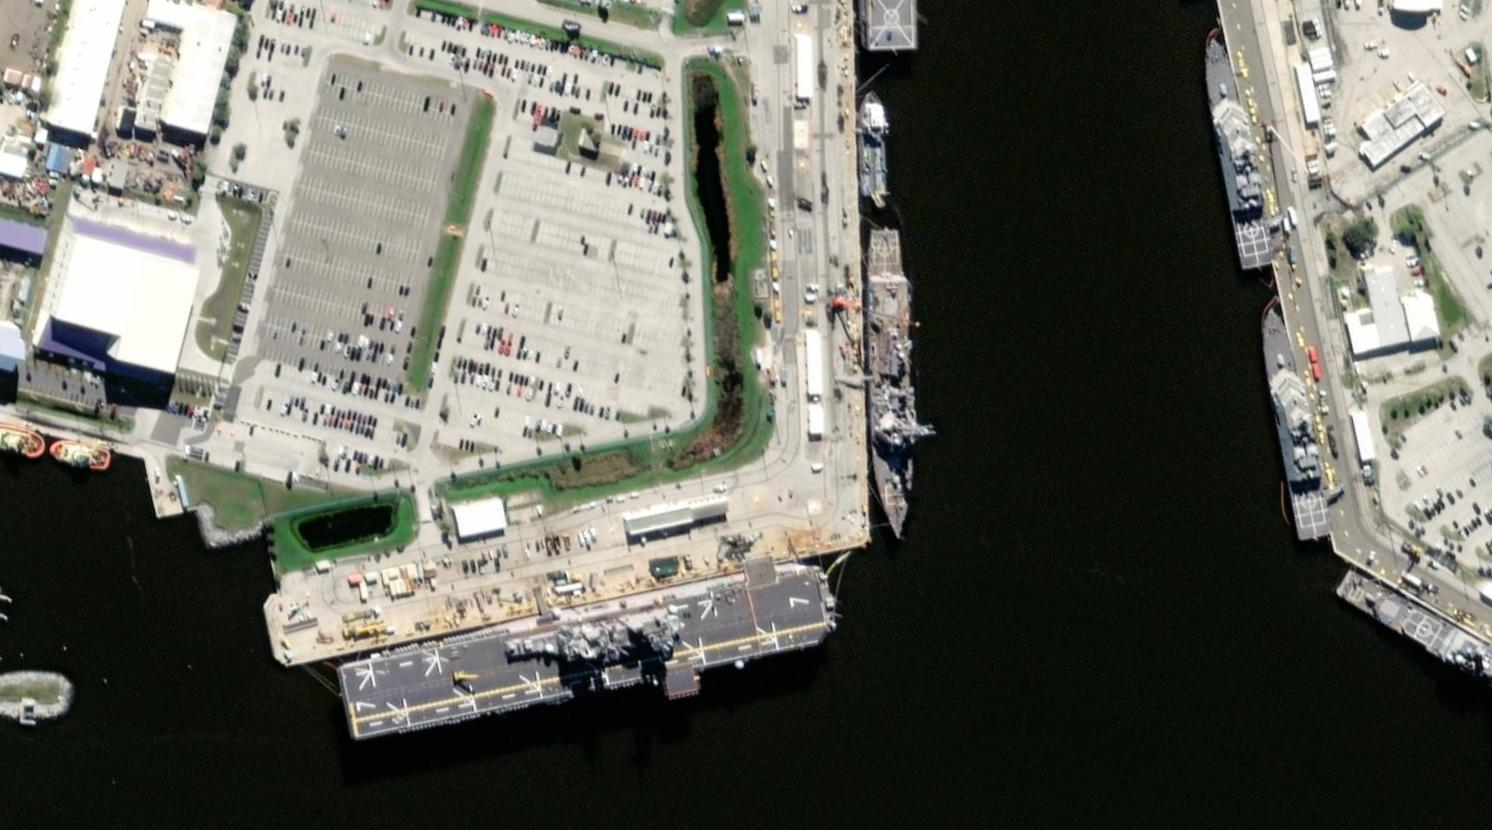fregate: (862, 223, 931, 551)
patrol: (1244, 296, 1338, 551), (1199, 24, 1293, 276)
pha: (336, 550, 844, 747)
